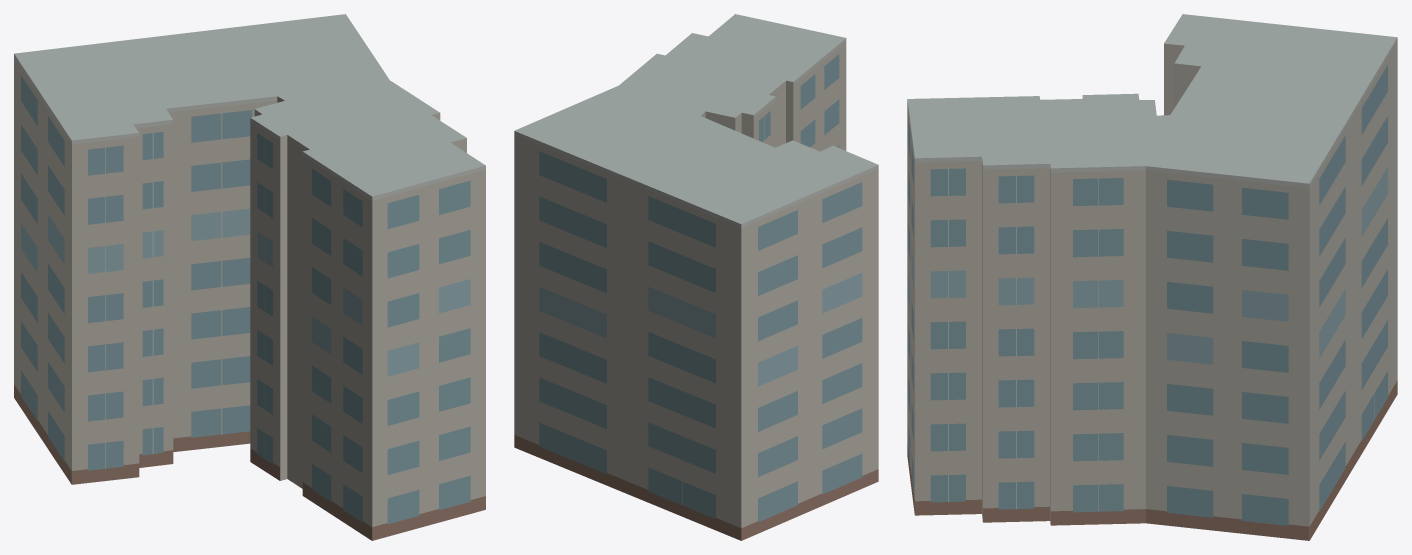
The model's file is survey-upis-32702212.glb.
The picture shows the model from 3 angles, left to right: view 1: azimuth 30°, elevation 25°; view 2: azimuth 150°, elevation 25°; view 3: azimuth 270°, elevation 25°; orthographic projection. The views are drawn at different scales.
Parts seen in each view (by area): view 1: survey-upis-32702212.tmp; view 2: survey-upis-32702212.tmp; view 3: survey-upis-32702212.tmp.
Part boxes in pixels (x1=…): survey-upis-32702212.tmp: x1=14, y1=14, x2=485, y2=540; survey-upis-32702212.tmp: x1=514, y1=14, x2=878, y2=540; survey-upis-32702212.tmp: x1=907, y1=14, x2=1397, y2=540.
Bounding box in the file's own units: 20.37 × 19.98 × 24.85.
